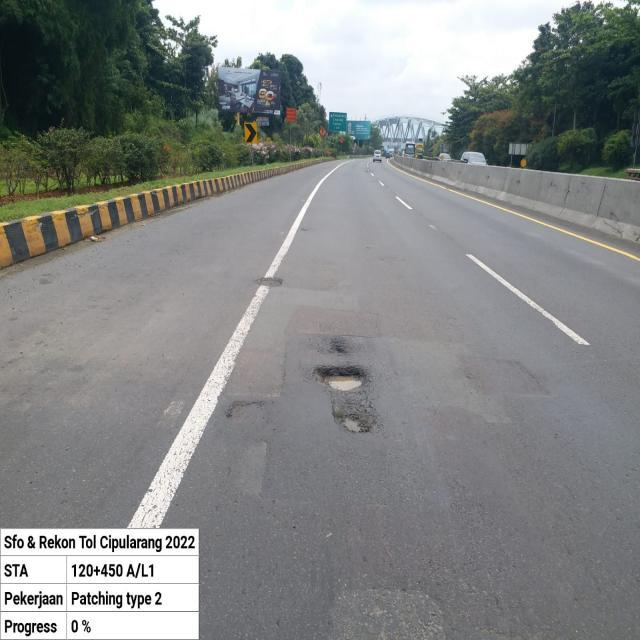Buraco: (330, 398, 380, 435), (311, 364, 368, 395), (222, 398, 268, 421), (326, 337, 348, 355), (253, 276, 285, 288)
